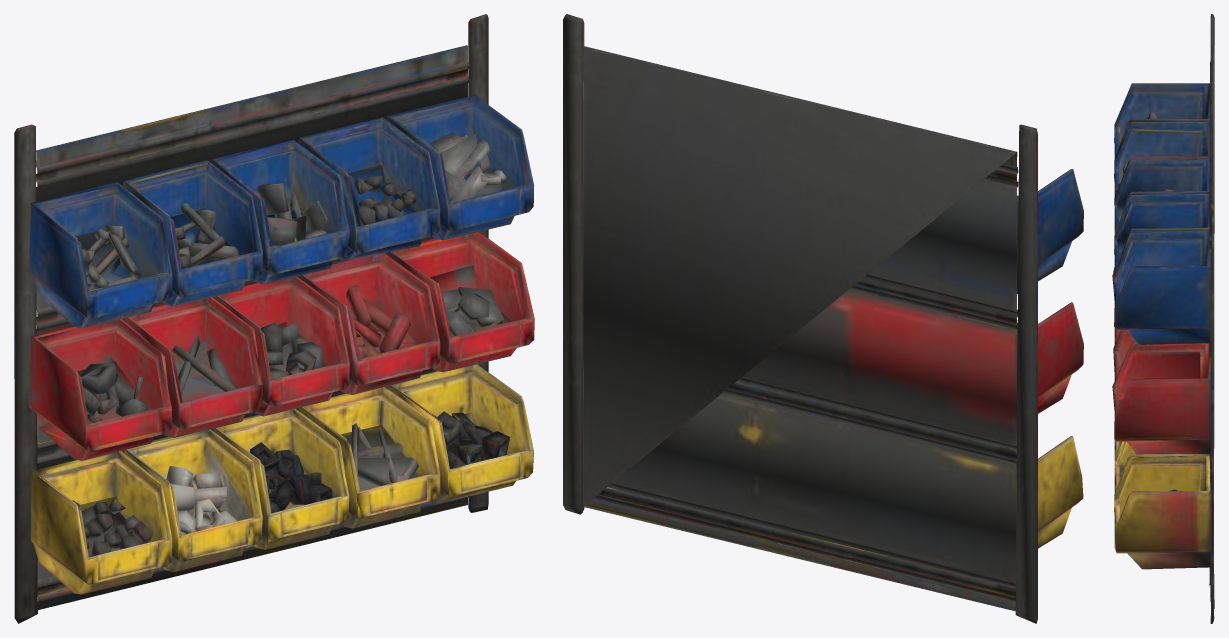
Rendered from p7-parts-bin-rack-t25.glb.
3 views of the same model, side by side, from view 1: azimuth 30°, elevation 25°; view 2: azimuth 150°, elevation 25°; view 3: azimuth 270°, elevation 25° (orthographic). The views are drawn at different scales.
Visible parts, largest first — view 1: p7-parts-bin-rack-t25; view 2: p7-parts-bin-rack-t25; view 3: p7-parts-bin-rack-t25.
Part boxes in pixels (x1=…): p7-parts-bin-rack-t25: x1=14, y1=14, x2=534, y2=623; p7-parts-bin-rack-t25: x1=563, y1=14, x2=1083, y2=623; p7-parts-bin-rack-t25: x1=1112, y1=14, x2=1214, y2=623.
Bounding box in the file's own units: 0.9 × 0.9 × 0.2.
1 material, 1 textured.
